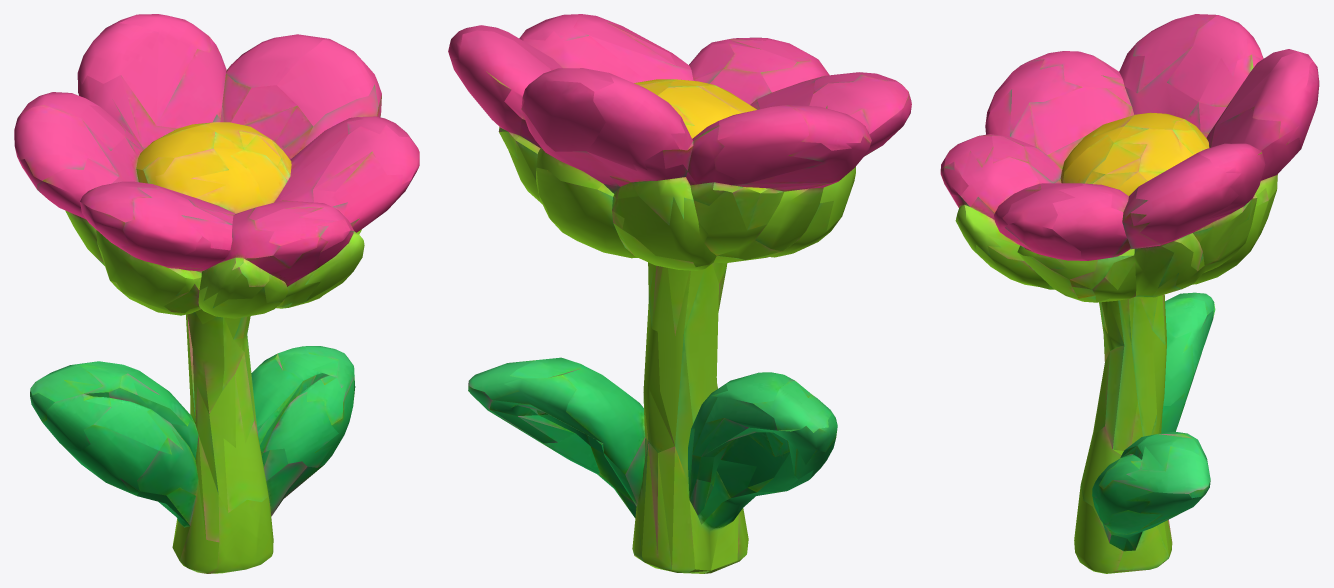
Rendered from bloom.glb.
3 views of the same model, side by side, from view 1: azimuth 30°, elevation 25°; view 2: azimuth 150°, elevation 25°; view 3: azimuth 270°, elevation 25° (orthographic). The views are drawn at different scales.
Size of the model in its own units: 1.46 by 1.89 by 1.31.
1 material, 1 textured.
